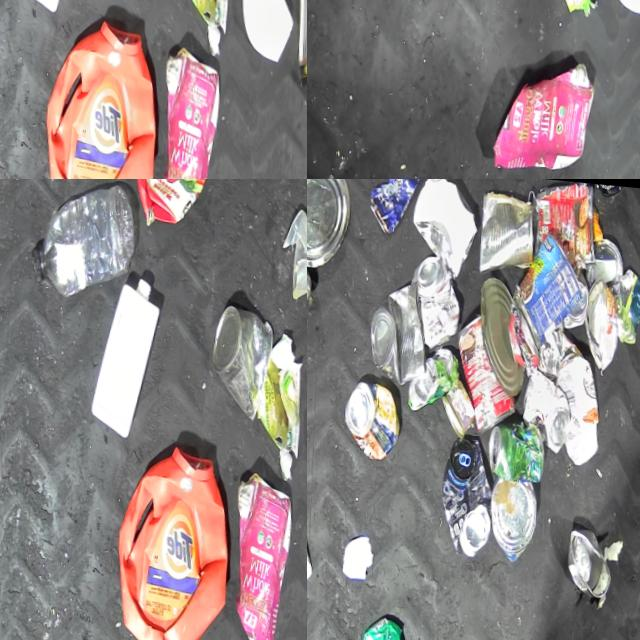can: (209, 280, 281, 419), (508, 219, 586, 343), (454, 304, 523, 428), (440, 428, 500, 551), (368, 271, 433, 381), (476, 267, 530, 388), (408, 246, 464, 343), (477, 181, 537, 270), (531, 179, 598, 258), (344, 373, 404, 456), (521, 356, 574, 445), (491, 469, 543, 555), (307, 179, 353, 267), (487, 409, 547, 475), (582, 265, 621, 362), (408, 337, 461, 407), (569, 515, 617, 590), (366, 179, 422, 233), (441, 370, 478, 432), (585, 225, 625, 280), (563, 259, 589, 321), (362, 608, 411, 640)
non_white_jug: (112, 416, 247, 640), (44, 0, 173, 179)
plastic_bottle: (20, 179, 145, 318)
